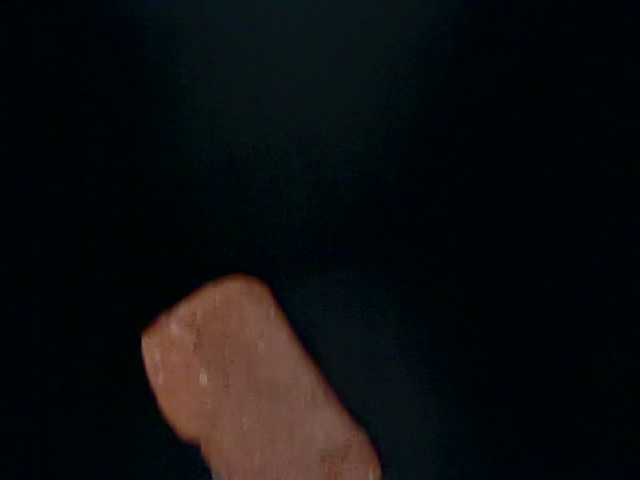KHSLJ: (150, 297, 537, 480)
